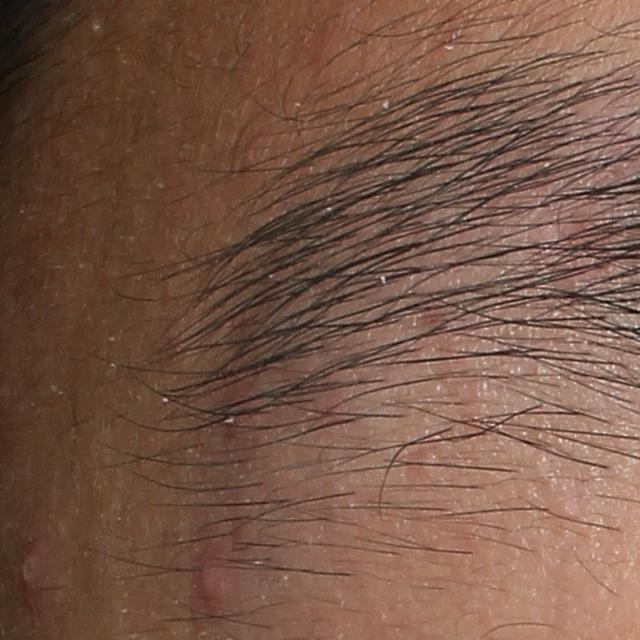comedo: (88, 18, 104, 37)
papule: (194, 551, 234, 605)
